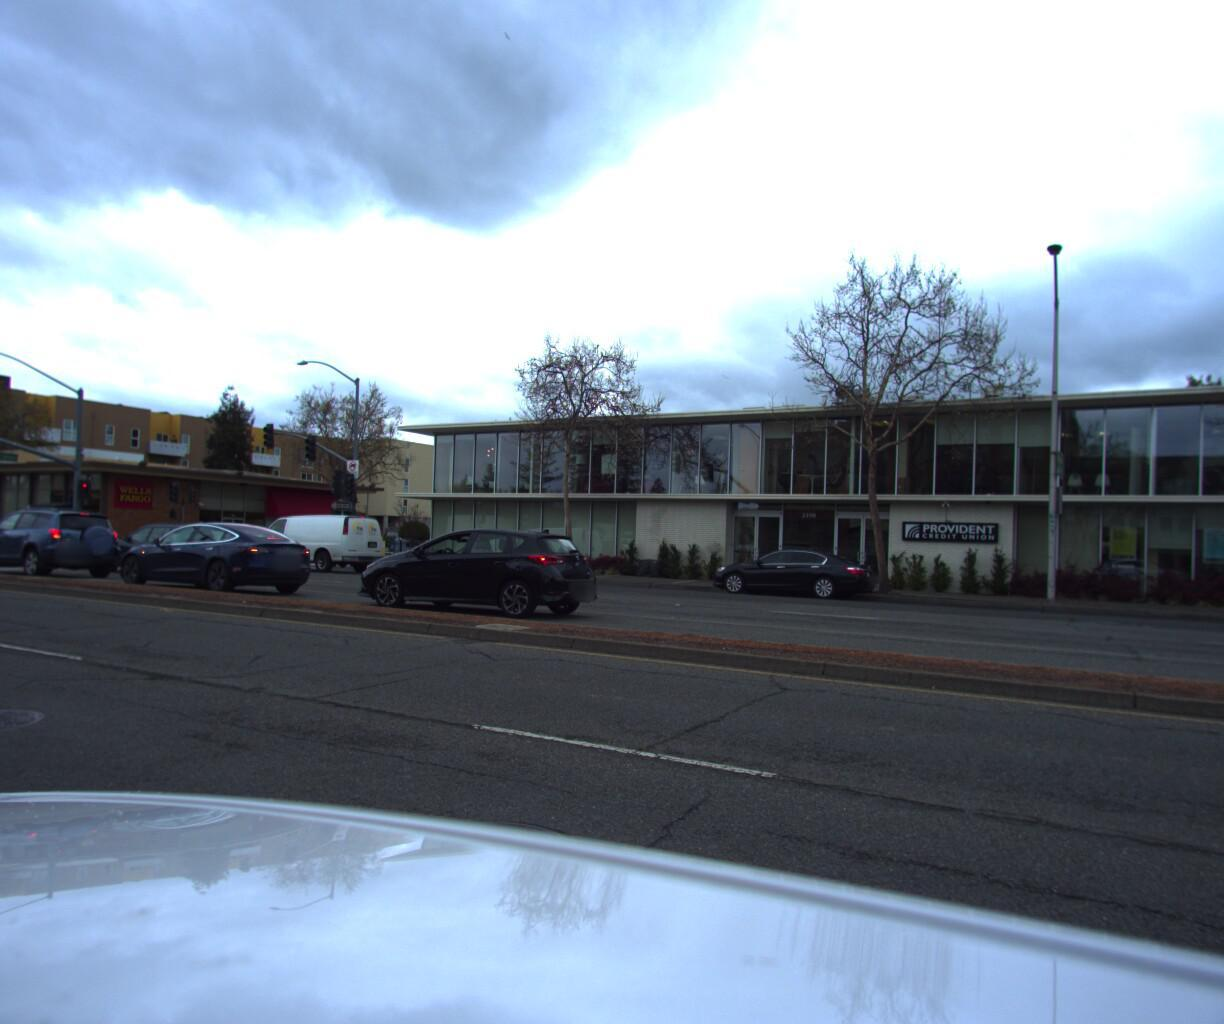car: (333, 533, 607, 648), (107, 522, 330, 603), (699, 553, 881, 622), (0, 510, 138, 593), (91, 525, 251, 583), (248, 517, 391, 577)
